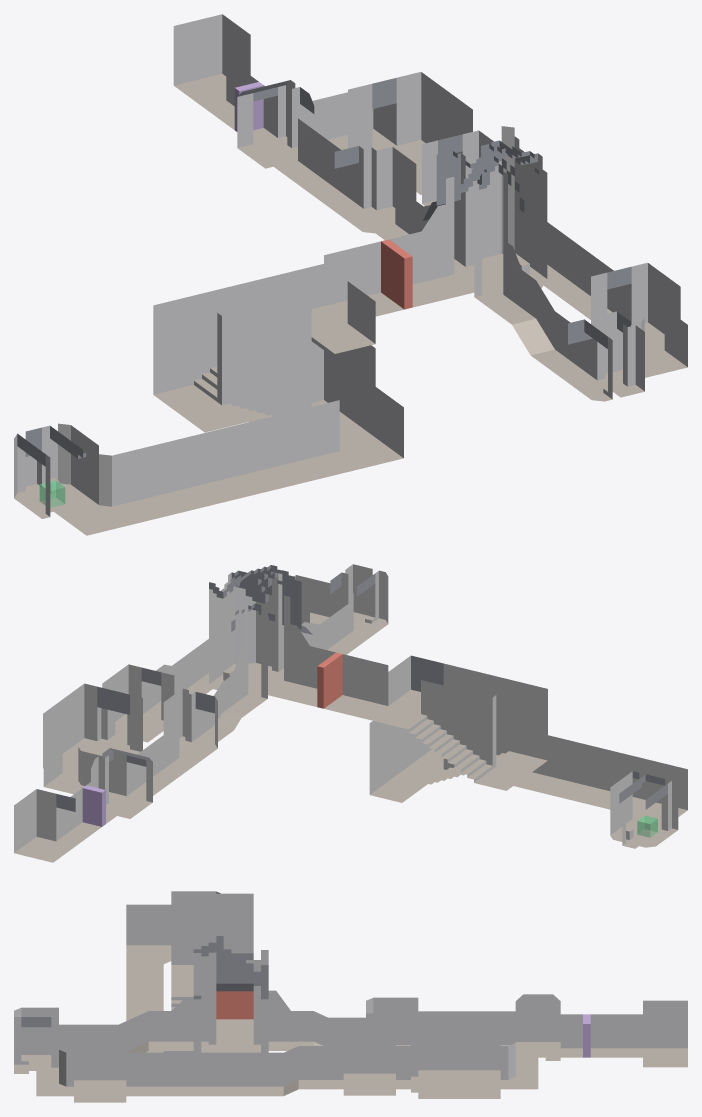
Rendered from works_04.glb.
3 renders of one model, top to bottom at view 1: azimuth 30°, elevation 25°; view 2: azimuth 150°, elevation 25°; view 3: azimuth 270°, elevation 25°, orthographic. The views are drawn at different scales.
Visible parts, largest first — view 1: room:6, corridor:6, corridor:5, room:1, room:2, room:5, corridor:1, corridor:2, room:0, corridor:3, room:1/portals, room:3 (+9 smaller); view 2: room:6, corridor:6, corridor:5, room:1, corridor:1, room:5, room:2, room:1/portals, entities, room:1/cavern, corridor:3, room:3 (+9 smaller); view 3: corridor:6, room:6, corridor:5, corridor:4, room:5, room:4, corridor:2, room:1/portals, room:3, corridor:0, room:0, room:1 (+9 smaller).
Part boxes in pixels (box(x1,y1,x2,y2)): room:6: box(153, 264, 375, 446); corridor:6: box(300, 72, 687, 377); corridor:5: box(59, 387, 403, 535); room:1: box(446, 126, 547, 303); room:2: box(14, 423, 98, 518); room:5: box(173, 14, 250, 105); corridor:1: box(324, 231, 444, 323); corridor:2: box(498, 270, 592, 382); room:0: box(334, 146, 416, 233); corridor:3: box(274, 118, 358, 211); room:1/portals: box(446, 153, 507, 297); room:3: box(568, 311, 644, 401); room:6: box(369, 655, 547, 802); corridor:6: box(43, 575, 341, 795); corridor:5: box(411, 733, 687, 825); room:1: box(209, 565, 289, 701); corridor:1: box(291, 646, 388, 719); room:5: box(14, 789, 75, 862); room:2: box(610, 771, 678, 847); room:1/portals: box(244, 573, 290, 698); entities: box(82, 652, 657, 837); room:1/cavern: box(209, 566, 301, 631); corridor:3: box(126, 726, 194, 800); room:3: box(330, 564, 388, 637); corridor:6: box(36, 1016, 538, 1102); room:6: box(171, 893, 253, 1052); corridor:5: box(126, 904, 171, 1052); corridor:4: box(560, 1014, 642, 1057); room:5: box(643, 1000, 687, 1067); room:4: box(515, 994, 560, 1060); corridor:2: box(59, 1011, 171, 1052); room:1/portals: box(193, 952, 268, 1052); room:3: box(14, 1007, 58, 1073); corridor:0: box(291, 1011, 365, 1049); room:0: box(366, 997, 418, 1045); room:1: box(193, 936, 268, 1052).
Bounding box in the file's own units: 72 × 27.5 × 90.
